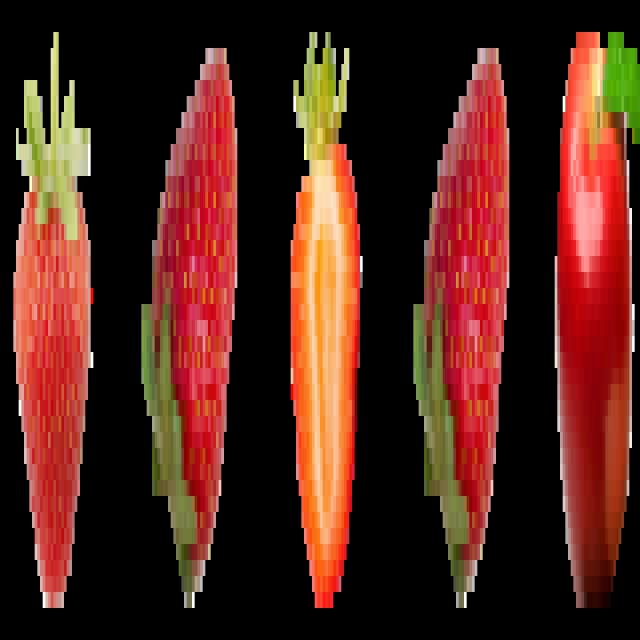strawberry: (413, 22, 514, 616), (140, 39, 240, 616), (9, 26, 92, 609), (287, 26, 362, 626)
